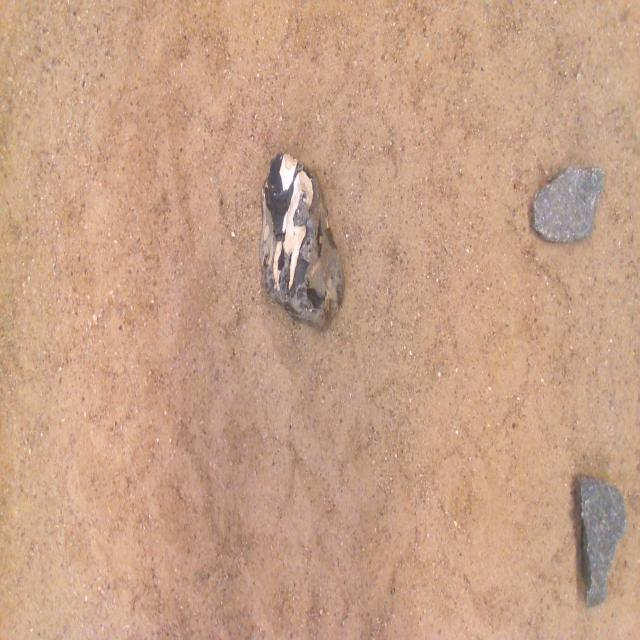rock: (260, 153, 344, 329), (576, 476, 626, 606), (533, 168, 604, 241)
